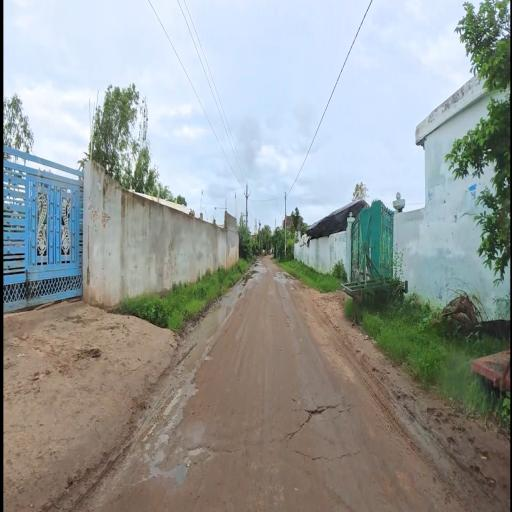edge_damage: (143, 362, 215, 492)
longitudinal_crack: (209, 366, 355, 497)
